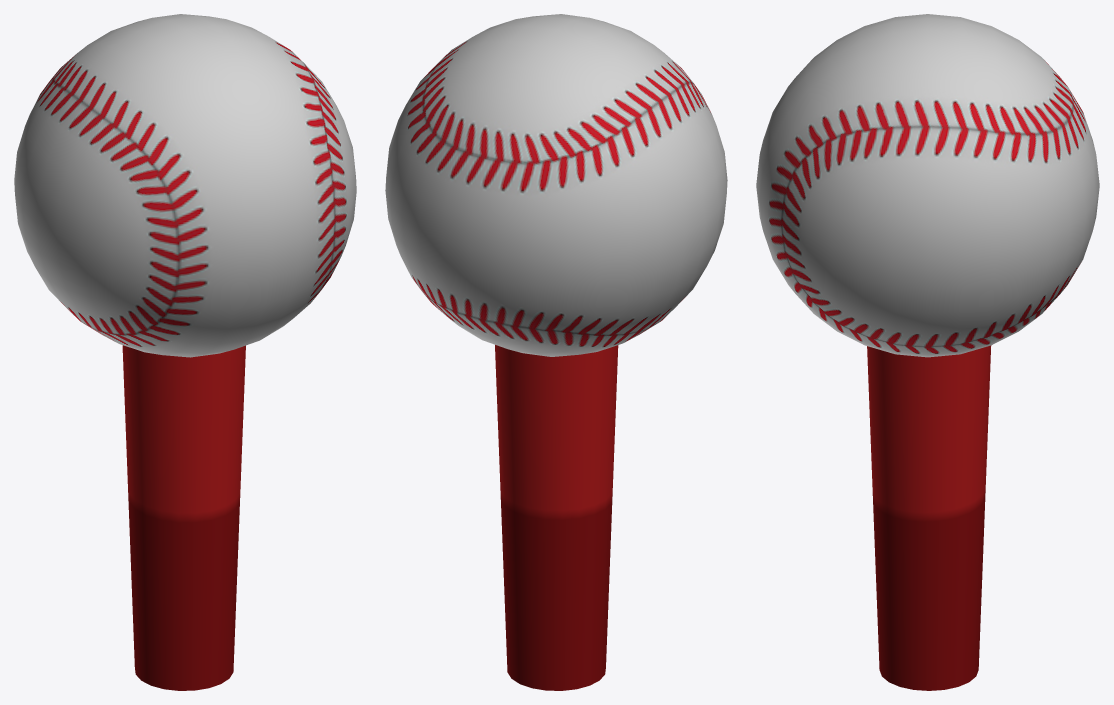
The model's file is Baseball Knob.fbx.
The picture shows the model from 3 angles, left to right: view 1: azimuth 30°, elevation 25°; view 2: azimuth 150°, elevation 25°; view 3: azimuth 270°, elevation 25°; orthographic projection.
Visible parts, largest first — view 1: Baseball_Baseball_0, Base_Ball_Gear; view 2: Baseball_Baseball_0, Base_Ball_Gear; view 3: Baseball_Baseball_0, Base_Ball_Gear.
Boxes of the visible parts, x1=… form: Baseball_Baseball_0: x1=14, y1=14, x2=356, y2=357; Base_Ball_Gear: x1=122, y1=345, x2=245, y2=690; Baseball_Baseball_0: x1=385, y1=14, x2=727, y2=356; Base_Ball_Gear: x1=495, y1=345, x2=618, y2=690; Baseball_Baseball_0: x1=756, y1=14, x2=1099, y2=357; Base_Ball_Gear: x1=867, y1=345, x2=991, y2=690.
Size of the model in its own units: 31.29 by 64.34 by 31.29.
